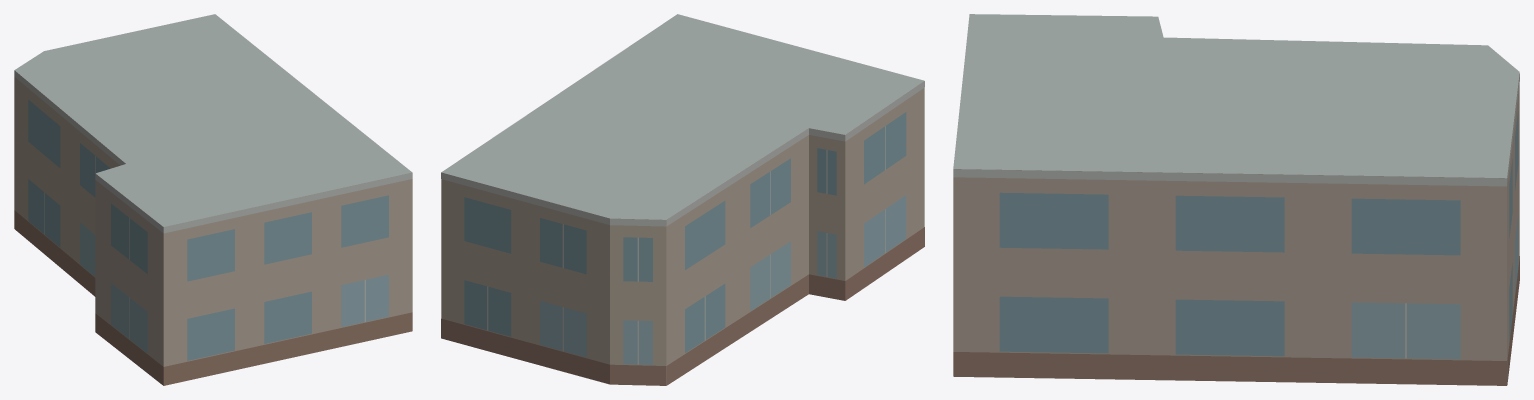
The model's file is survey-upis-32979688.glb.
The picture shows the model from 3 angles, left to right: view 1: azimuth 30°, elevation 25°; view 2: azimuth 150°, elevation 25°; view 3: azimuth 270°, elevation 25°; orthographic projection. The views are drawn at different scales.
Visible parts, largest first — view 1: survey-upis-32979688.tmp; view 2: survey-upis-32979688.tmp; view 3: survey-upis-32979688.tmp.
Boxes of the visible parts, x1,y1,x2,y2 form: survey-upis-32979688.tmp: (14, 14, 412, 385); survey-upis-32979688.tmp: (441, 14, 924, 385); survey-upis-32979688.tmp: (953, 14, 1519, 385).
Bounding box in the file's own units: 10.35 × 6.1 × 15.09.
